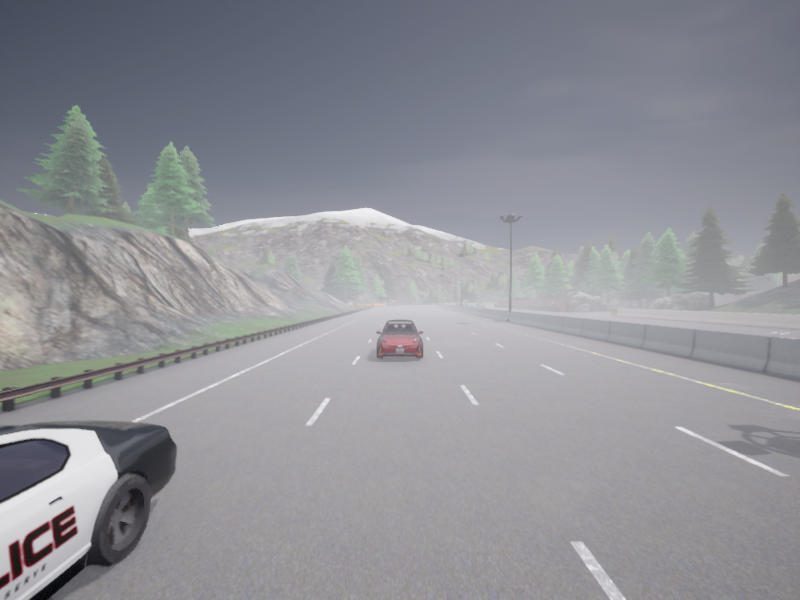vehicle: (0, 421, 176, 599), (376, 320, 423, 358), (476, 303, 484, 307), (462, 300, 468, 305), (454, 303, 460, 305), (469, 304, 473, 306)
